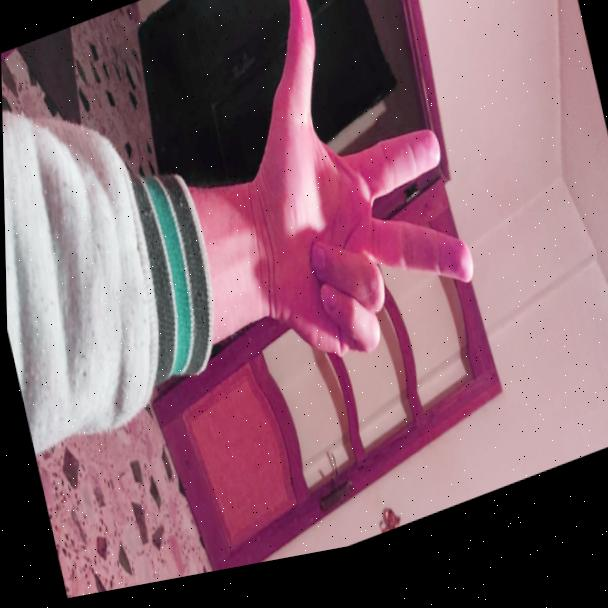three: (200, 0, 493, 417)
